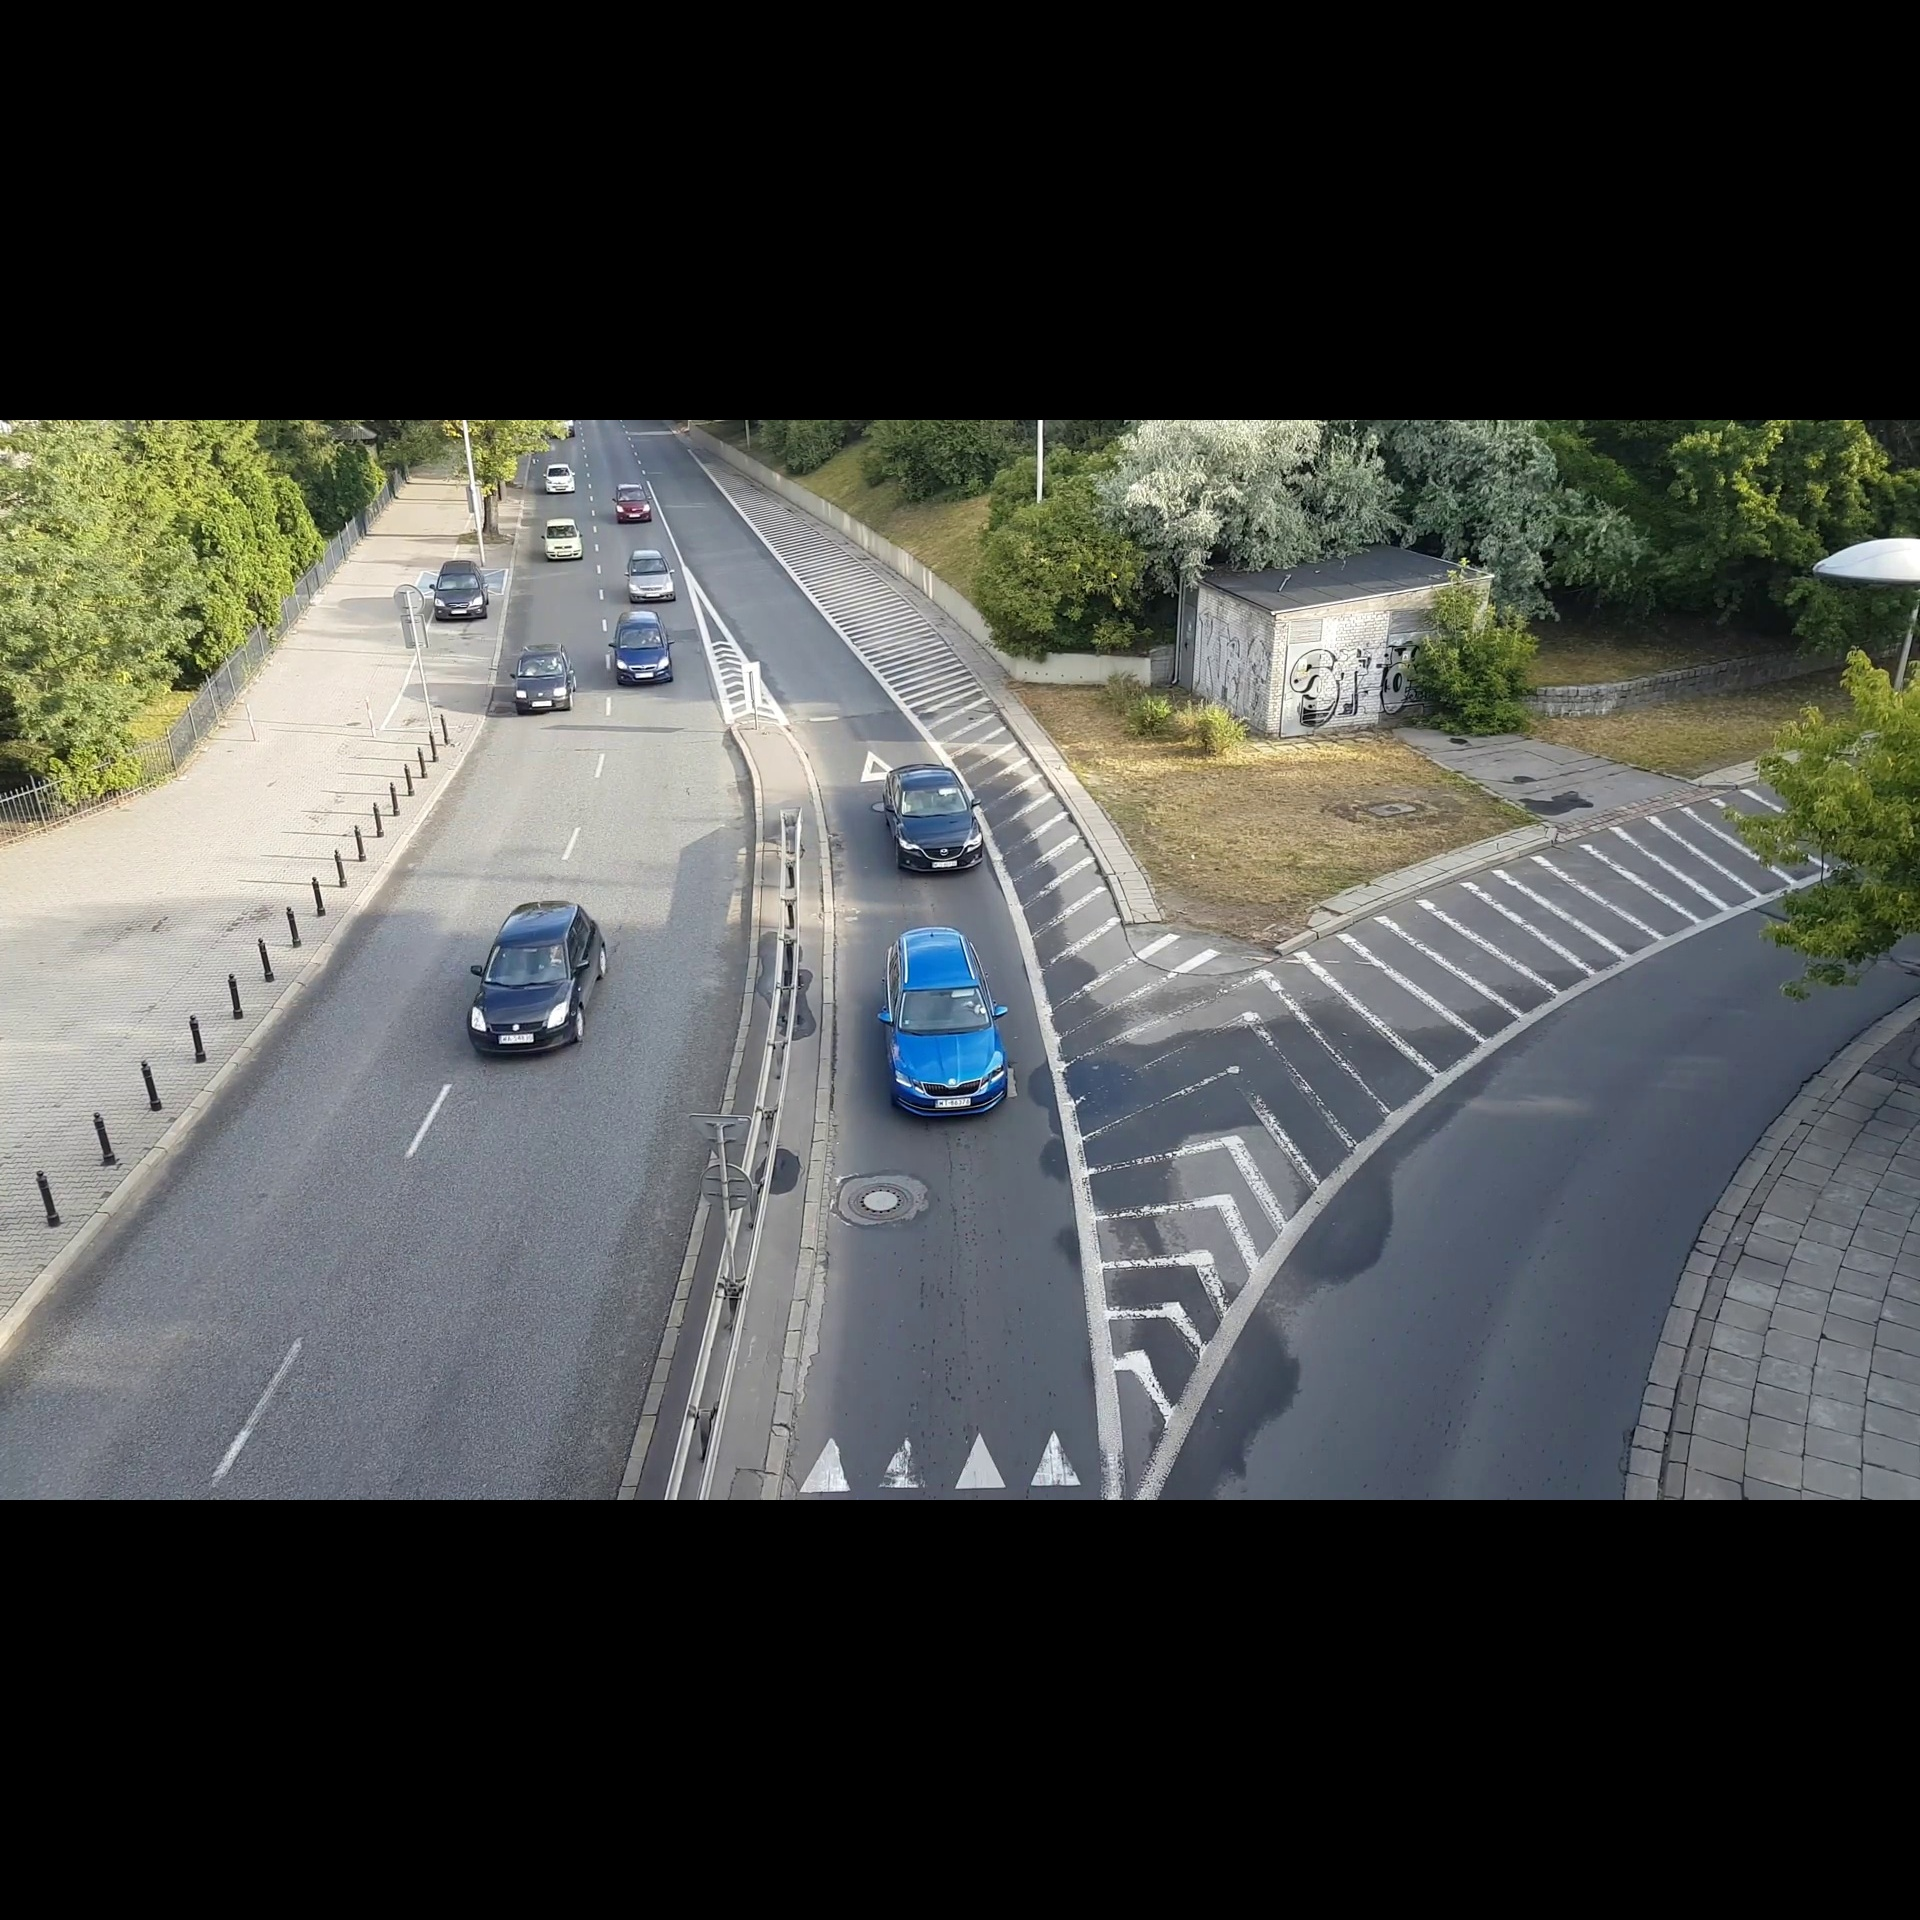vehicle: (865, 914, 1022, 1132), (457, 897, 612, 1067), (874, 758, 990, 879), (506, 636, 585, 717), (608, 605, 677, 687), (427, 552, 492, 622), (621, 536, 680, 608), (538, 513, 587, 564), (612, 478, 652, 526), (536, 461, 582, 496)
